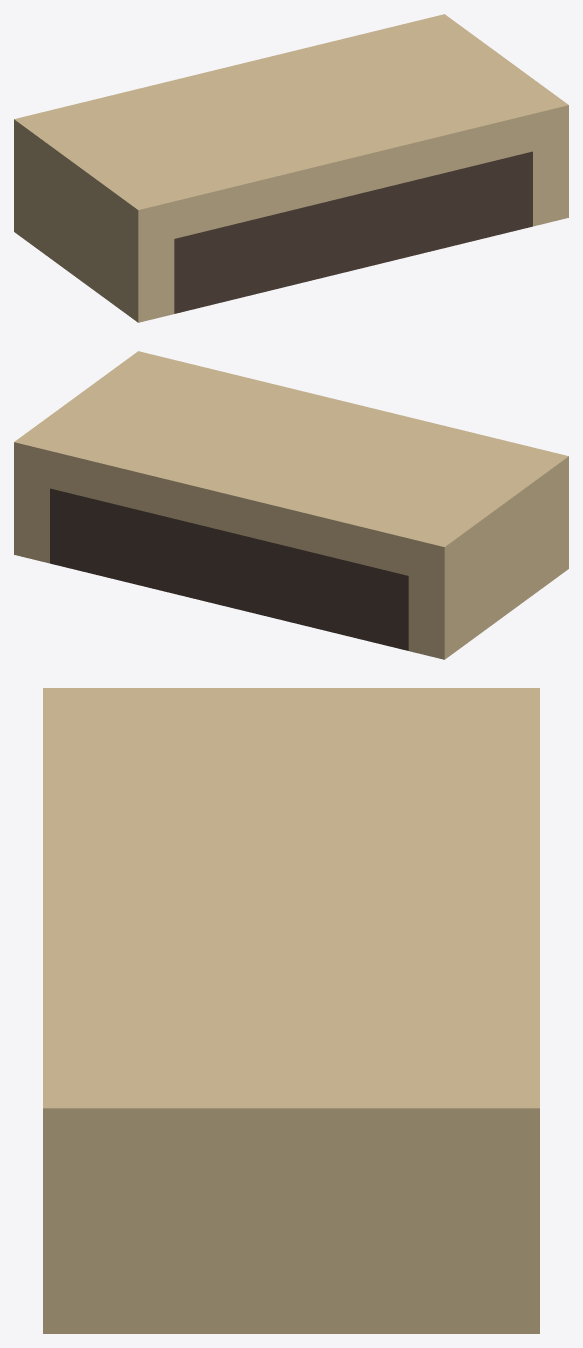
The model's file is owl__perch.glb.
The picture shows the model from 3 angles, top to bottom: view 1: azimuth 30°, elevation 25°; view 2: azimuth 150°, elevation 25°; view 3: azimuth 270°, elevation 25°; orthographic projection. The views are drawn at different scales.
Parts seen in each view (by area): view 1: owl__perch; view 2: owl__perch; view 3: owl__perch.
Boxes of the visible parts, x1,y1,x2,y2 form: owl__perch: (14,14,568,322); owl__perch: (14,351,568,659); owl__perch: (43,688,539,1333).
Bounding box in the file's own units: 1.2 × 0.3 × 0.6.
Materials: 1 (1 with a texture image).
